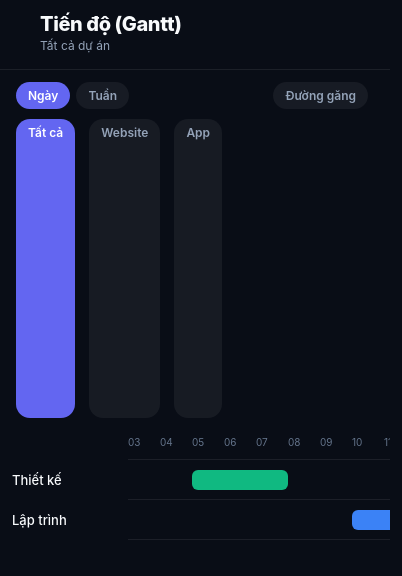
Test: phụ thuộc vòng tròn: báo, không treo
Check: the element with test id "gantt-bar-A" is shown, box [192,470,288,490]
Click the text "Đường găng". click: (321, 96)
box: [285,88,356,103]
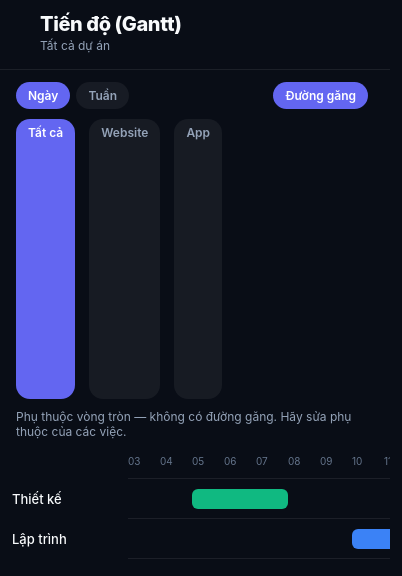
Check: the text "vòng tròn" is shown, box [16,409,355,439]
